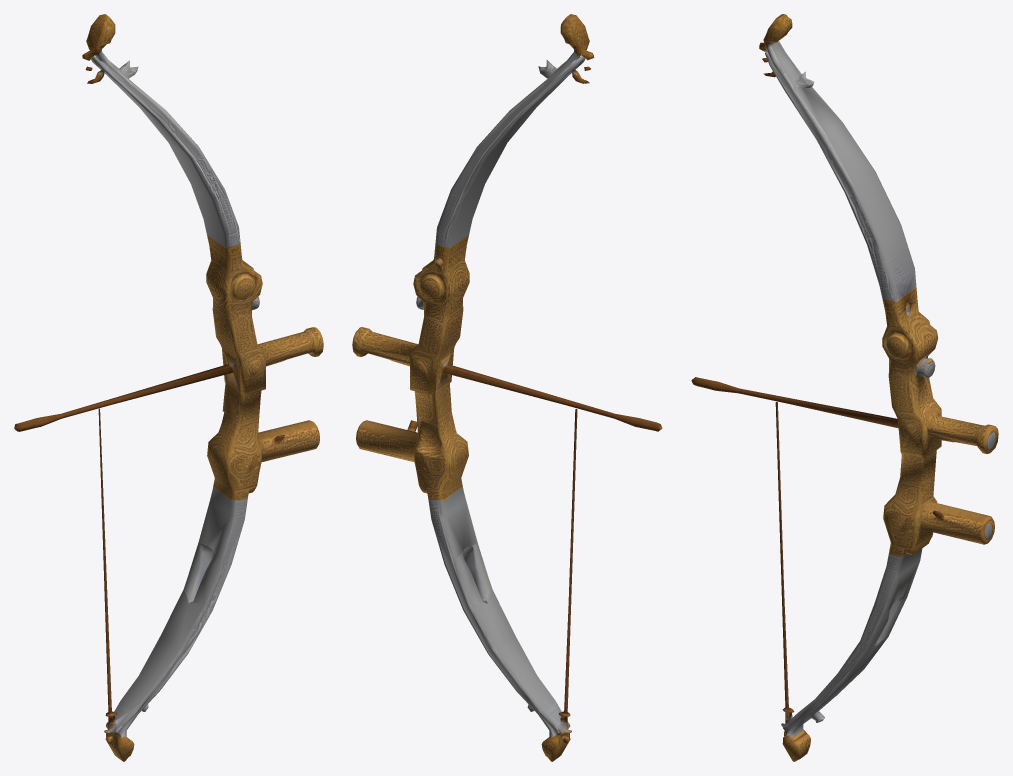
The model's file is ratgut_shortbow.glb.
The picture shows the model from 3 angles, left to right: view 1: azimuth 30°, elevation 25°; view 2: azimuth 150°, elevation 25°; view 3: azimuth 330°, elevation 25°; orthographic projection.
Visible parts, largest first — view 1: base_model_path; view 2: base_model_path; view 3: base_model_path.
Boxes of the visible parts, x1=… form: base_model_path: x1=14, y1=14, x2=323, y2=761; base_model_path: x1=352, y1=14, x2=662, y2=761; base_model_path: x1=691, y1=14, x2=998, y2=761.
Bounding box in the file's own units: 0.4248 × 1 × 0.0607.
1 material, 1 textured.
